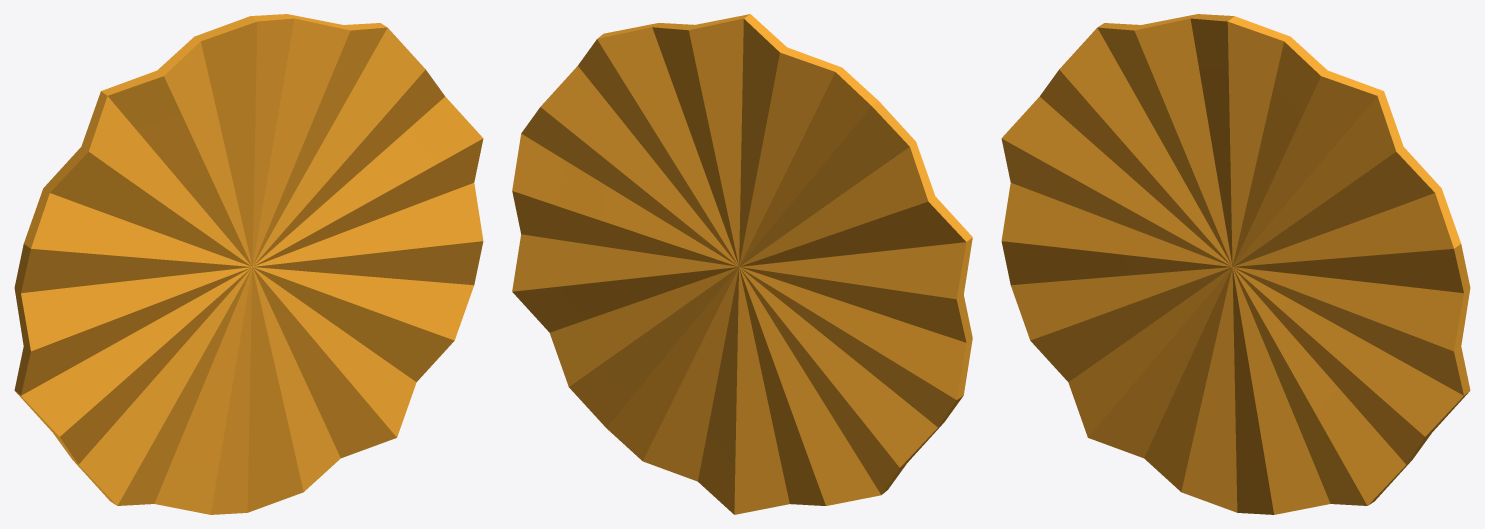
The model's file is SM_Decor_Circle_G_4july.fbx.
3 renders of one model, left to right at view 1: azimuth 30°, elevation 25°; view 2: azimuth 150°, elevation 25°; view 3: azimuth 330°, elevation 25°, orthographic.
Visible parts, largest first — view 1: decor-circle-g-4july; view 2: decor-circle-g-4july; view 3: decor-circle-g-4july.
Part boxes in pixels (left/top/right/bottom): decor-circle-g-4july: left=14, top=14, right=483, bottom=514; decor-circle-g-4july: left=512, top=14, right=972, bottom=514; decor-circle-g-4july: left=1001, top=14, right=1470, bottom=514.
Bounding box in the file's own units: 0.3808 × 0.4003 × 0.024.
